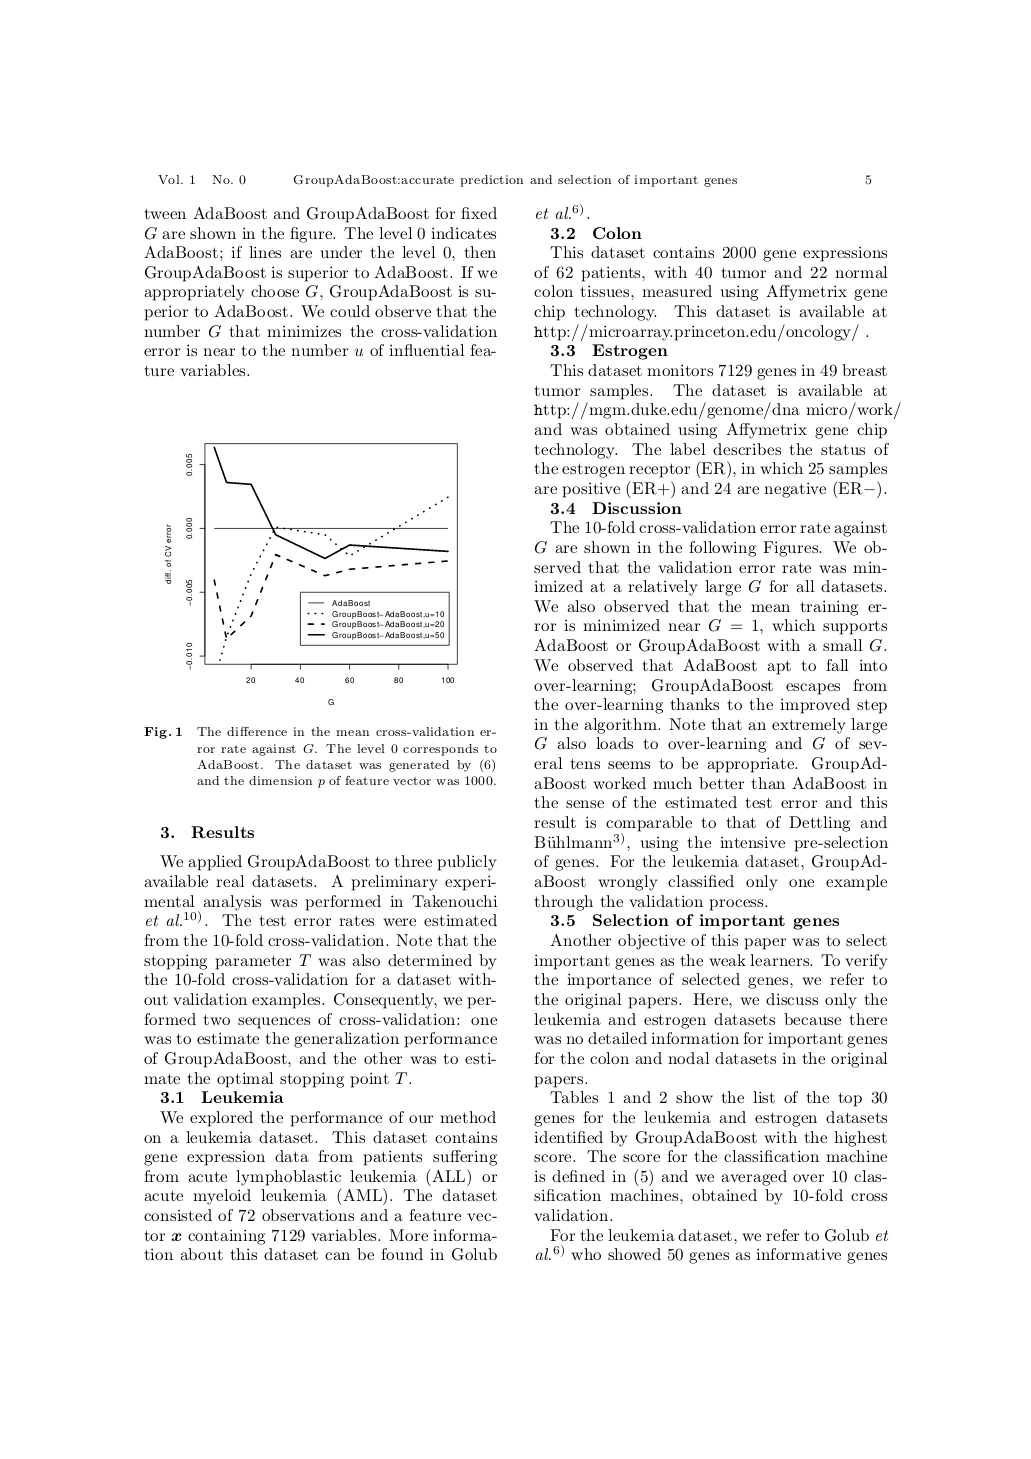figure: (165, 443, 457, 683)
